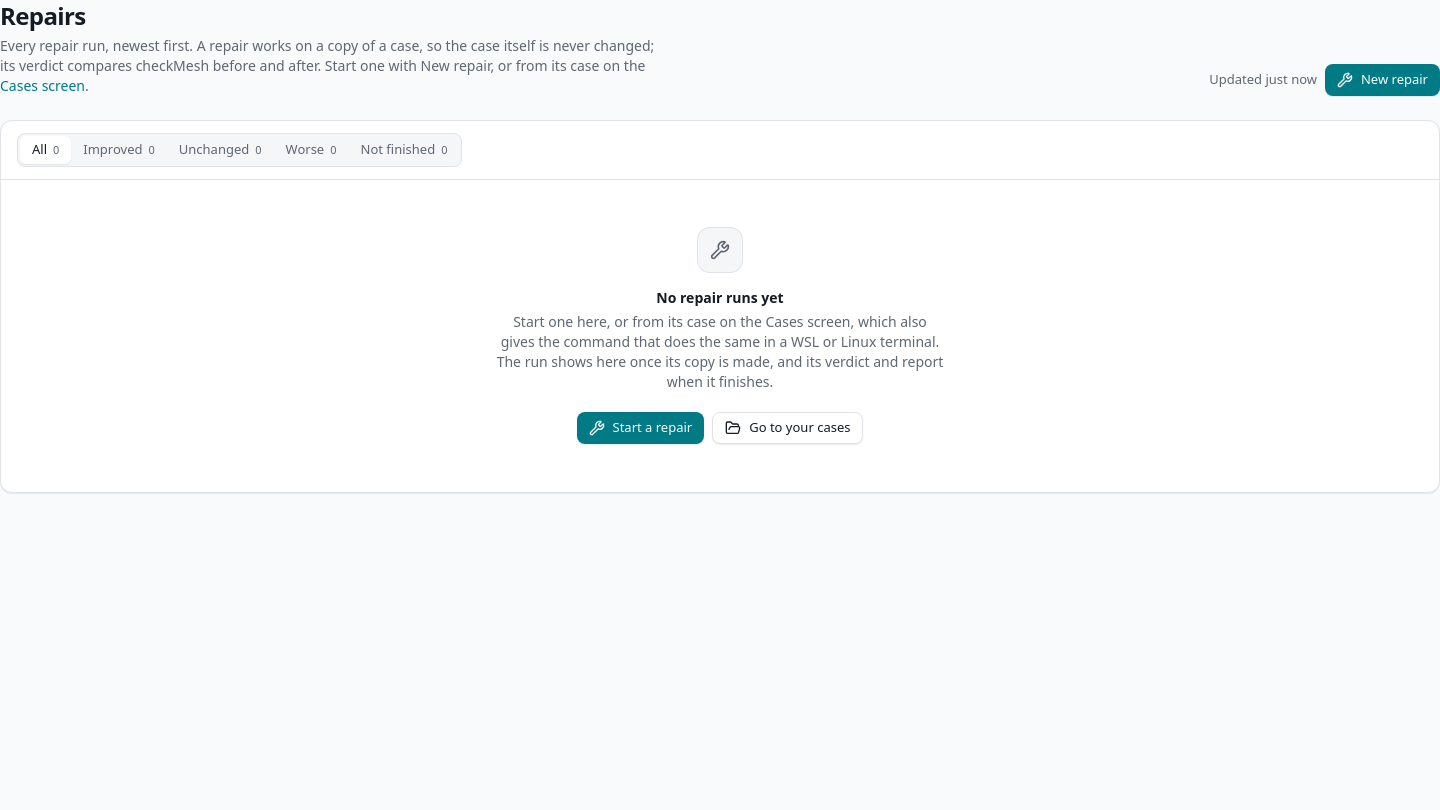
Test case: starting a repair from the Repairs screen › starts one from the empty list too
Click the button "Start a repair".
click(640, 428)  # box [576, 412, 704, 444]
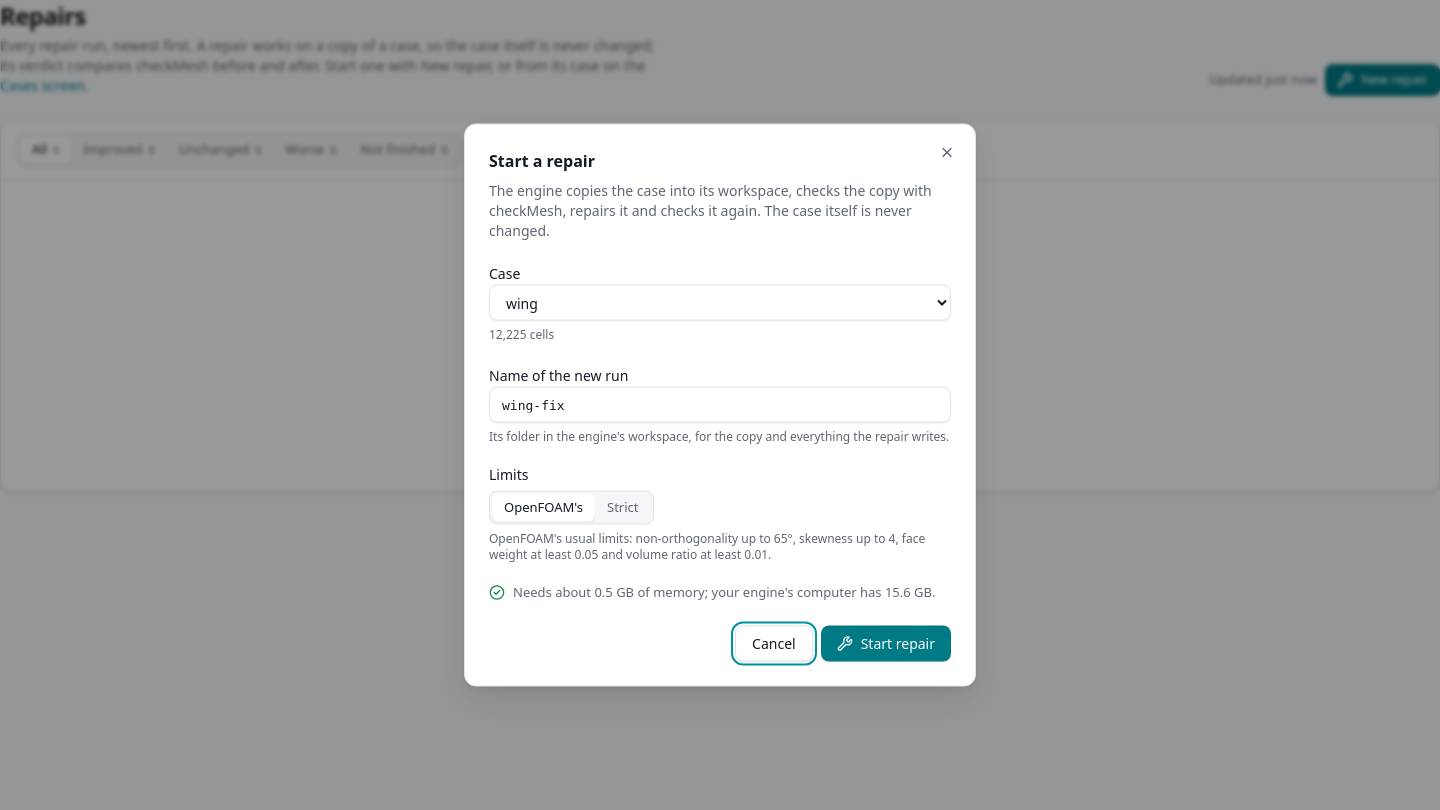
Expected: the heading "Start a repair" is shown, [489, 150, 595, 172]
